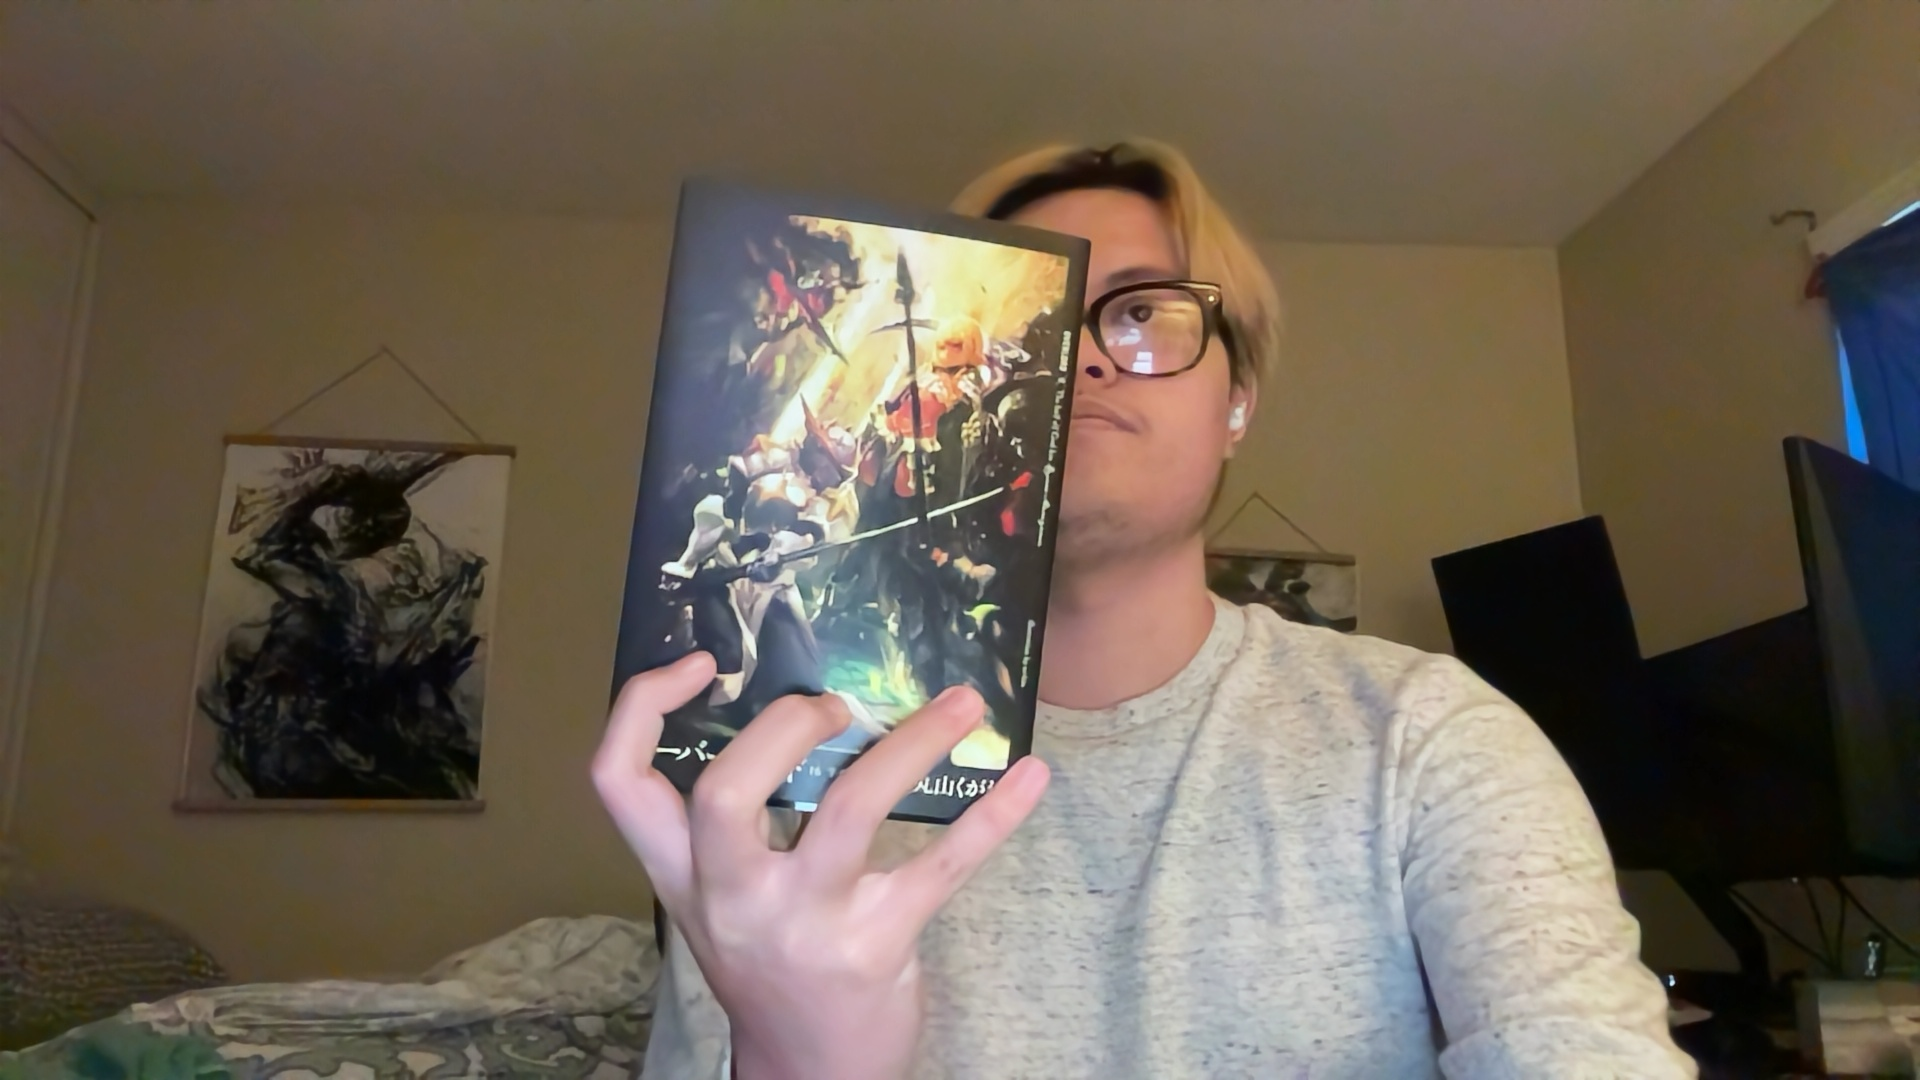book: (607, 162, 1098, 851)
